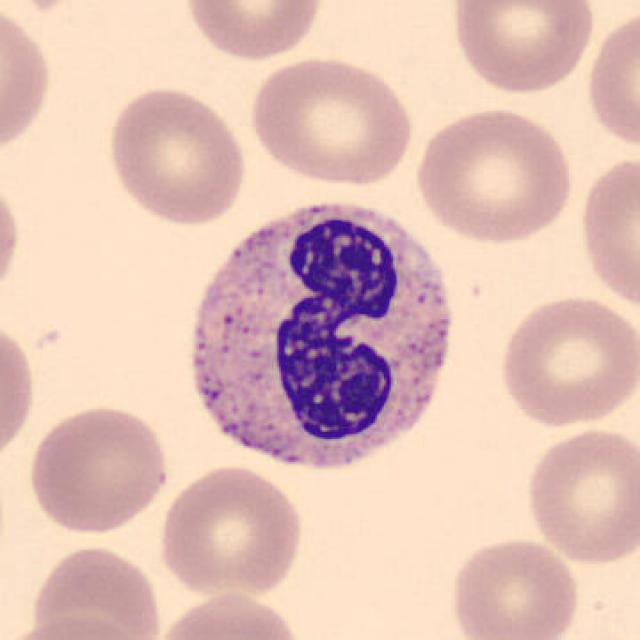Neutrophil: (172, 185, 470, 488)
RBC: (410, 102, 578, 245), (245, 53, 418, 189), (154, 460, 308, 600), (103, 83, 251, 227), (23, 400, 173, 538), (494, 291, 638, 430), (521, 425, 638, 566), (446, 0, 599, 97), (446, 534, 583, 640), (24, 539, 165, 640), (574, 152, 638, 316), (179, 0, 327, 63), (0, 2, 57, 164), (583, 4, 640, 155), (151, 587, 308, 640), (0, 312, 39, 471), (4, 612, 154, 640), (0, 171, 23, 309)
